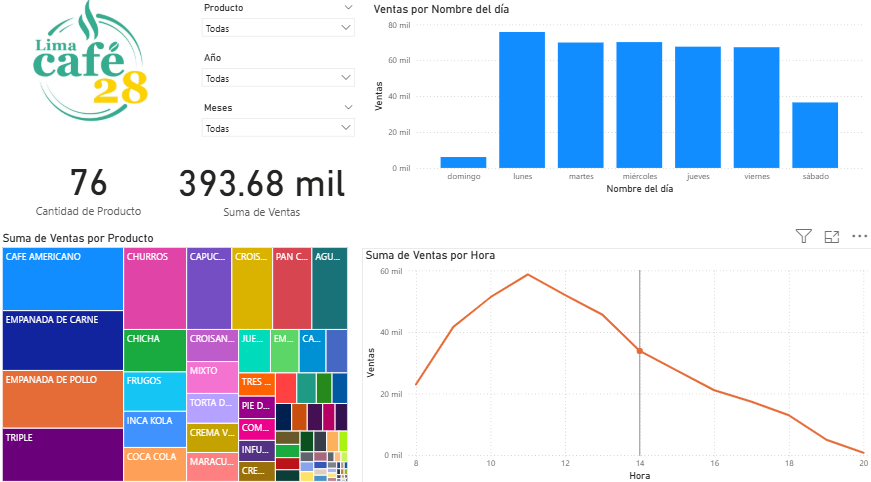

The page's visual inventory and layout, read from the dashboard file:
{"tool":"powerbi","page":{"name":"Reporte_Dia_Hora","canvas":[1280,720],"ordinal":1},"visuals":[{"type":"treemap","fields":{"Values":["MEDIDAS.Suma de Ventas"],"Group":["PRODUCTO.Producto"]},"box":[0,348.5,515,371.5],"z":0},{"type":"lineChart","title":"Suma de Ventas por Hora","fields":{"Y":["MEDIDAS.Suma de Ventas"],"Category":["VENTAS.Hora1"]},"box":[530.7,373.9,748.9,346.1],"z":1000},{"type":"card","fields":{"Values":["MEDIDAS.Cantidad de Producto"]},"box":[9.6,229.1,241.2,101.3],"z":2000},{"type":"columnChart","fields":{"Y":["MEDIDAS.Suma de Ventas"],"Category":["TIEMPO.Nombre del día"]},"box":[542.7,13.3,726,285.8],"z":3000},{"type":"card","fields":{"Values":["MEDIDAS.Suma de Ventas"]},"box":[238.8,229.1,291.9,104.9],"z":4000},{"type":"slicer","fields":{"Values":["PRODUCTO.Producto"]},"box":[287,8.4,243.6,73.6],"z":5000},{"type":"image","box":[0,0,261.7,211.1],"z":6000},{"type":"slicer","fields":{"Values":["TIEMPO.Año"]},"box":[287,82,243.6,73.6],"z":7000},{"type":"slicer","fields":{"Values":["TIEMPO.Nombre del mes"]},"box":[287,155.6,243.6,73.6],"z":8000}]}

Visuals, with their boxes in screenshot pixels (x1, y1, x2, y2), scaled from the page's 1280x720 canvas onto the 871x482 screenshot:
treemap - MEDIDAS.Suma de Ventas x PRODUCTO.Producto: region(0, 233, 350, 481)
"Suma de Ventas por Hora" lineChart: region(361, 250, 870, 481)
card - MEDIDAS.Cantidad de Producto: region(7, 153, 171, 221)
columnChart - MEDIDAS.Suma de Ventas x TIEMPO.Nombre del día: region(369, 9, 863, 200)
card - MEDIDAS.Suma de Ventas: region(162, 153, 361, 224)
slicer - PRODUCTO.Producto: region(195, 6, 361, 55)
image: region(0, 0, 178, 141)
slicer - TIEMPO.Año: region(195, 55, 361, 104)
slicer - TIEMPO.Nombre del mes: region(195, 104, 361, 153)
